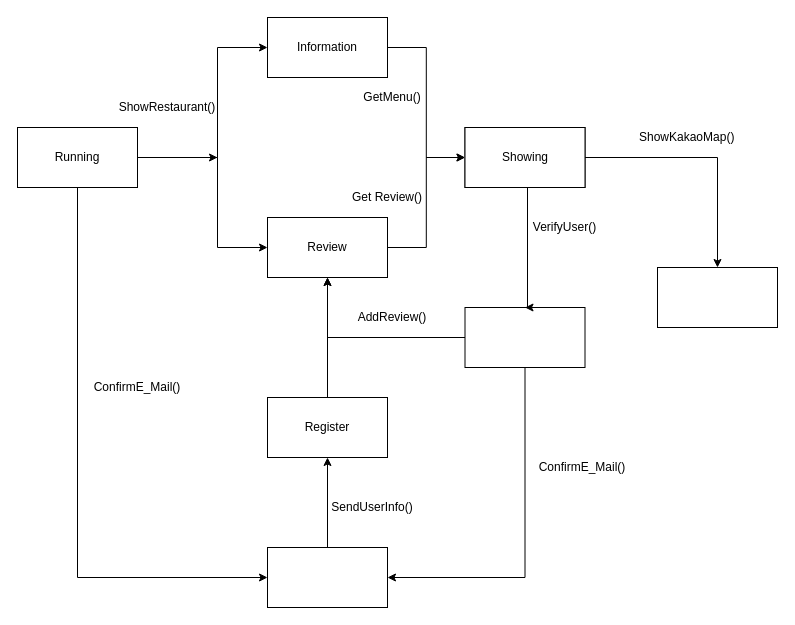
This 795x625 diagram has some shape labels left out. The box of each missing label's shape, as (x1, y1, x2, y2) in pixels:
Auth: (464, 306, 585, 368)
Confirm ResetPassword: (266, 546, 388, 608)
Way: (656, 266, 778, 328)
